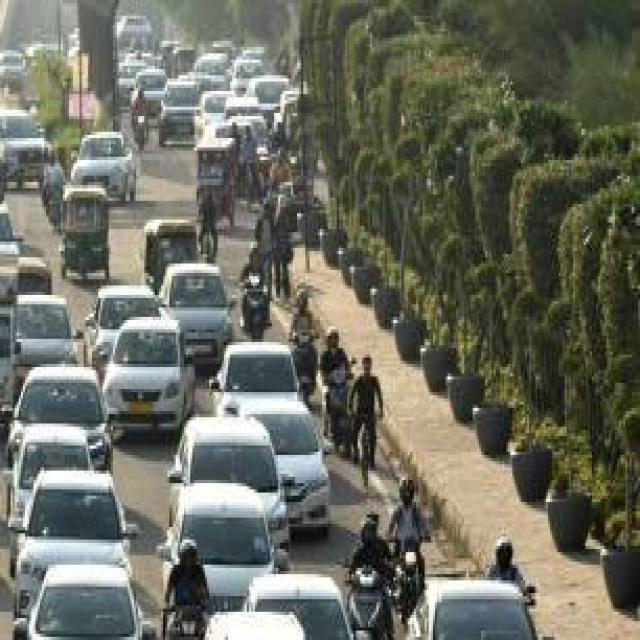bike: (345, 552, 387, 640), (155, 590, 207, 640), (395, 533, 425, 615)
